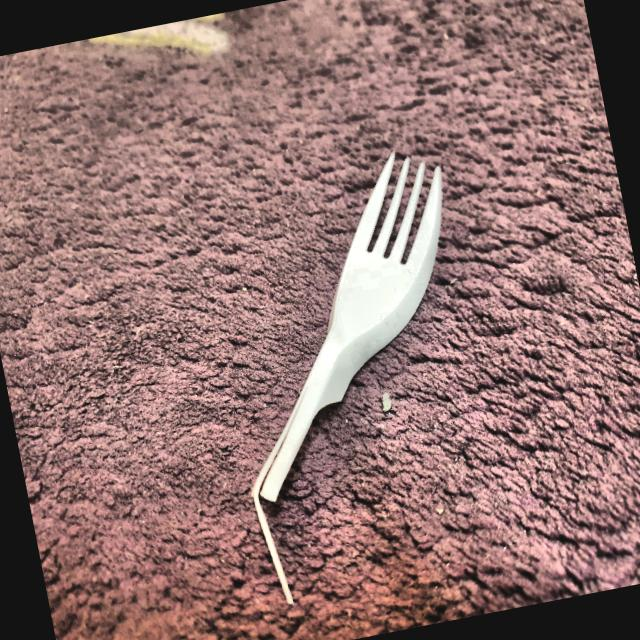plastic utensil: (192, 134, 510, 526)
